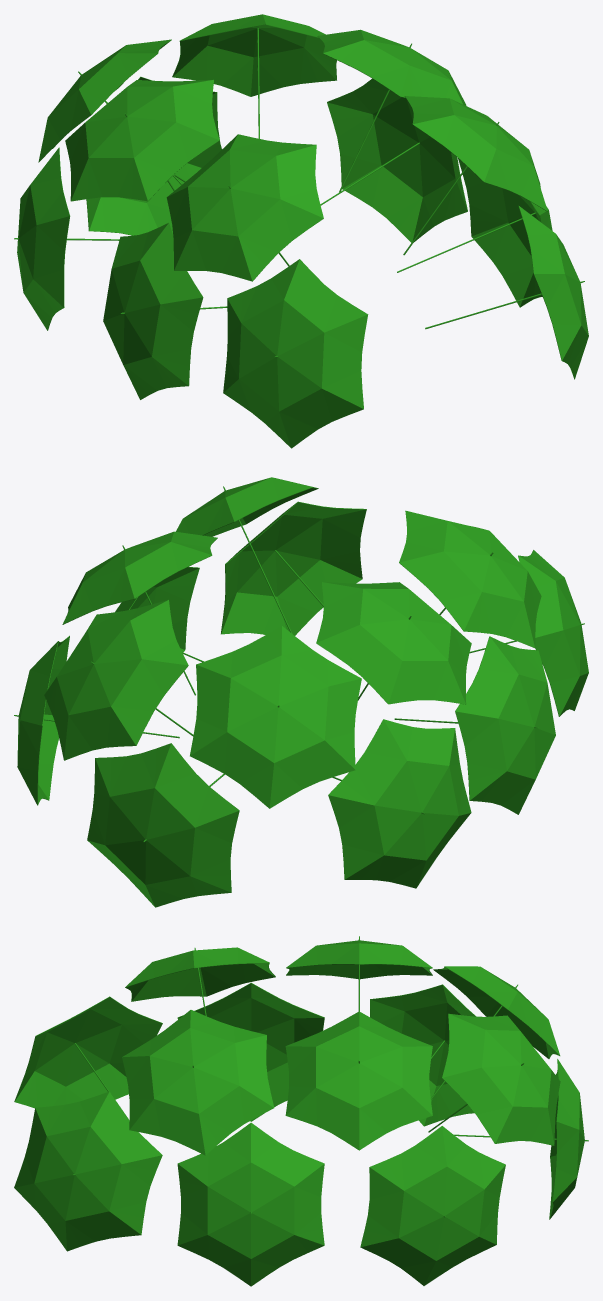
Rendered from Mad Race_Umbrella.fbx.
The picture shows the model from 3 angles, top to bottom: view 1: azimuth 30°, elevation 25°; view 2: azimuth 150°, elevation 25°; view 3: azimuth 270°, elevation 25°; orthographic projection. The views are drawn at different scales.
Visible parts, largest first — view 1: Cylinder065, Cylinder071, Cylinder069, Cylinder072, Cylinder067, Cylinder074, Cylinder070, Cylinder073, Cylinder066, Cylinder068, Cylinder064, Cylinder075 (+1 smaller); view 2: Cylinder075, Cylinder076, Cylinder073, Cylinder074, Cylinder069, Cylinder064, Cylinder067, Cylinder071, Cylinder068, Cylinder065, Cylinder072, Cylinder070 (+1 smaller); view 3: Cylinder066, Cylinder064, Cylinder072, Cylinder070, Cylinder068, Cylinder074, Cylinder065, Cylinder073, Cylinder067, Cylinder071, Cylinder069, Cylinder075 (+1 smaller).
Boxes of the visible parts, x1,y1,x2,y2 form: Cylinder065: (223,259,368,448); Cylinder071: (166,134,323,281); Cylinder069: (65,79,219,201); Cylinder072: (320,78,467,242); Cylinder067: (103,223,227,399); Cylinder074: (172,14,336,138); Cylinder070: (403,96,547,255); Cylinder073: (14,147,119,330); Cylinder066: (397,158,552,307); Cylinder068: (317,29,466,192); Cylinder064: (425,206,588,379); Cylinder075: (38,39,182,184); Cylinder075: (190,626,361,808); Cylinder076: (87,743,239,907); Cylinder073: (328,719,471,888); Cylinder074: (44,600,193,760); Cylinder069: (316,582,471,704); Cylinder064: (221,501,366,635); Cylinder067: (394,636,555,814); Cylinder071: (399,510,541,647); Cylinder068: (62,531,217,695); Cylinder065: (469,550,588,716); Cylinder072: (14,635,179,805); Cylinder070: (176,477,318,633); Cylinder066: (177,1122,324,1286); Cylinder064: (14,1091,162,1251); Cylinder072: (360,1126,505,1285); Cylinder070: (122,1010,274,1155); Cylinder068: (285,1011,432,1150); Cylinder074: (428,1013,560,1145); Cylinder065: (14,996,162,1120); Cylinder073: (370,984,476,1126); Cylinder067: (177,982,324,1121); Cylinder071: (125,947,275,1015); Cylinder069: (286,936,432,1011); Cylinder075: (430,966,560,1099).
Size of the model in its own units: 354 by 210 by 469.
